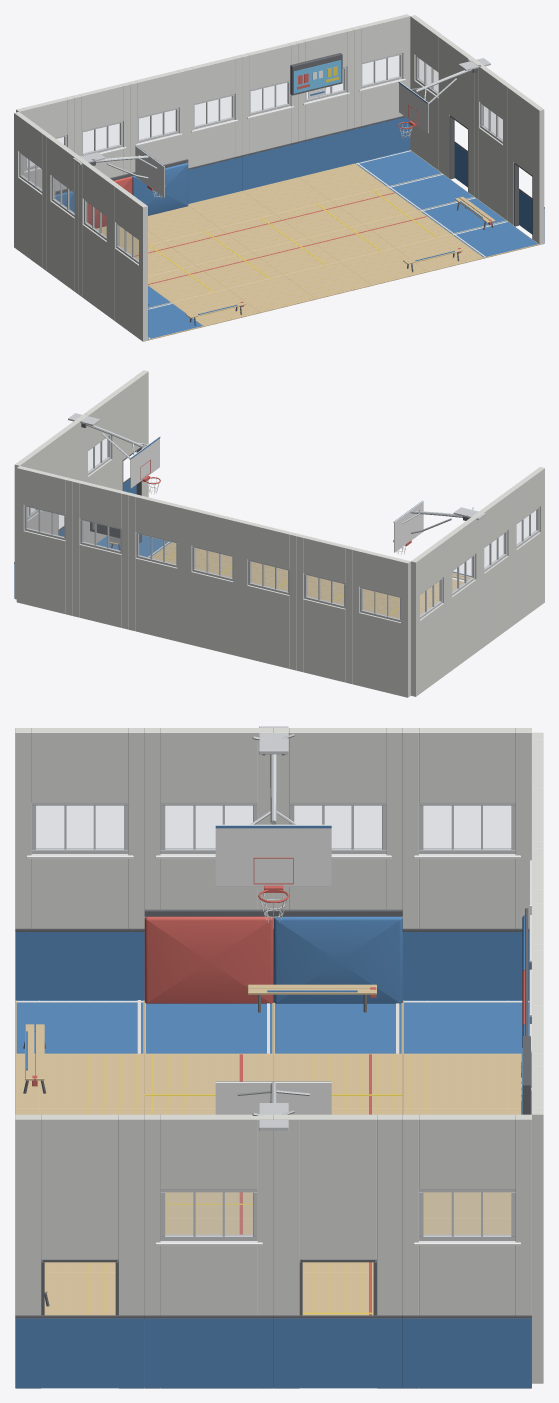
File: sports-hall-court-light.glb
3 renders of one model, top to bottom at view 1: azimuth 30°, elevation 25°; view 2: azimuth 150°, elevation 25°; view 3: azimuth 270°, elevation 25°, orthographic. The views are drawn at different scales.
Parts seen in each view (by area): view 1: 058-hall-wall-module0, 047-hall-wall-module0, 048-hall-wall-module0, 050-hall-wall-module0, 055-hall-wall-module0, 056-hall-wall-module0, 057-hall-wall-module0, 065-hall-wall-module0, 066-hall-wall-module-doorway0, 049-hall-wall-module0, 046-hall-wall-module0, 063-hall-wall-module0 (+55 smaller); view 2: 044-hall-wall-module0, 049-hall-wall-module0, 047-hall-wall-module0, 050-hall-wall-module0, 048-hall-wall-module0, 046-hall-wall-module0, 045-hall-wall-module0, 055-hall-wall-module0, 058-hall-wall-module0, 057-hall-wall-module0, 056-hall-wall-module0, 066-hall-wall-module-doorway0 (+27 smaller); view 3: 066-hall-wall-module-doorway0, 064-hall-wall-module-doorway0, 063-hall-wall-module0, 065-hall-wall-module0, 058-hall-wall-module0, 055-hall-wall-module0, 057-hall-wall-module0, 056-hall-wall-module0, 076-wall-padding-module-red0, 075-wall-padding-module0, 063-hall-wall-module1, 064-hall-wall-module-doorway1 (+40 smaller).
Part boxes in pixels (x1=…): 058-hall-wall-module0: x1=110, y1=182, x2=147, y2=341; 047-hall-wall-module0: x1=184, y1=55, x2=242, y2=168; 048-hall-wall-module0: x1=240, y1=41, x2=298, y2=154; 050-hall-wall-module0: x1=352, y1=14, x2=410, y2=127; 055-hall-wall-module0: x1=14, y1=112, x2=50, y2=270; 056-hall-wall-module0: x1=46, y1=135, x2=82, y2=294; 057-hall-wall-module0: x1=78, y1=159, x2=115, y2=317; 065-hall-wall-module0: x1=475, y1=62, x2=511, y2=220; 066-hall-wall-module-doorway0: x1=507, y1=86, x2=544, y2=244; 049-hall-wall-module0: x1=296, y1=27, x2=354, y2=141; 046-hall-wall-module0: x1=128, y1=68, x2=186, y2=176; 063-hall-wall-module0: x1=410, y1=15, x2=446, y2=173; 044-hall-wall-module0: x1=352, y1=547, x2=410, y2=697; 049-hall-wall-module0: x1=72, y1=479, x2=130, y2=629; 047-hall-wall-module0: x1=184, y1=507, x2=242, y2=656; 050-hall-wall-module0: x1=16, y1=466, x2=74, y2=615; 048-hall-wall-module0: x1=128, y1=493, x2=186, y2=642; 046-hall-wall-module0: x1=240, y1=520, x2=298, y2=670; 045-hall-wall-module0: x1=296, y1=534, x2=354, y2=683; 055-hall-wall-module0: x1=411, y1=537, x2=448, y2=696; 058-hall-wall-module0: x1=508, y1=467, x2=544, y2=625; 057-hall-wall-module0: x1=476, y1=490, x2=512, y2=649; 056-hall-wall-module0: x1=443, y1=514, x2=480, y2=672; 066-hall-wall-module-doorway0: x1=111, y1=370, x2=148, y2=497; 066-hall-wall-module-doorway0: x1=15, y1=1114, x2=144, y2=1388; 064-hall-wall-module-doorway0: x1=273, y1=1114, x2=402, y2=1388; 063-hall-wall-module0: x1=402, y1=1114, x2=531, y2=1388; 065-hall-wall-module0: x1=144, y1=1114, x2=273, y2=1388; 058-hall-wall-module0: x1=15, y1=728, x2=144, y2=999; 055-hall-wall-module0: x1=402, y1=728, x2=531, y2=928; 057-hall-wall-module0: x1=144, y1=728, x2=273, y2=928; 056-hall-wall-module0: x1=273, y1=728, x2=402, y2=928; 076-wall-padding-module-red0: x1=144, y1=916, x2=273, y2=1003; 075-wall-padding-module0: x1=274, y1=916, x2=402, y2=1003; 063-hall-wall-module1: x1=402, y1=1318, x2=531, y2=1388; 064-hall-wall-module-doorway1: x1=273, y1=1318, x2=402, y2=1388.
Bounding box in the file's own units: 14.7 × 4.65 × 8.18.
